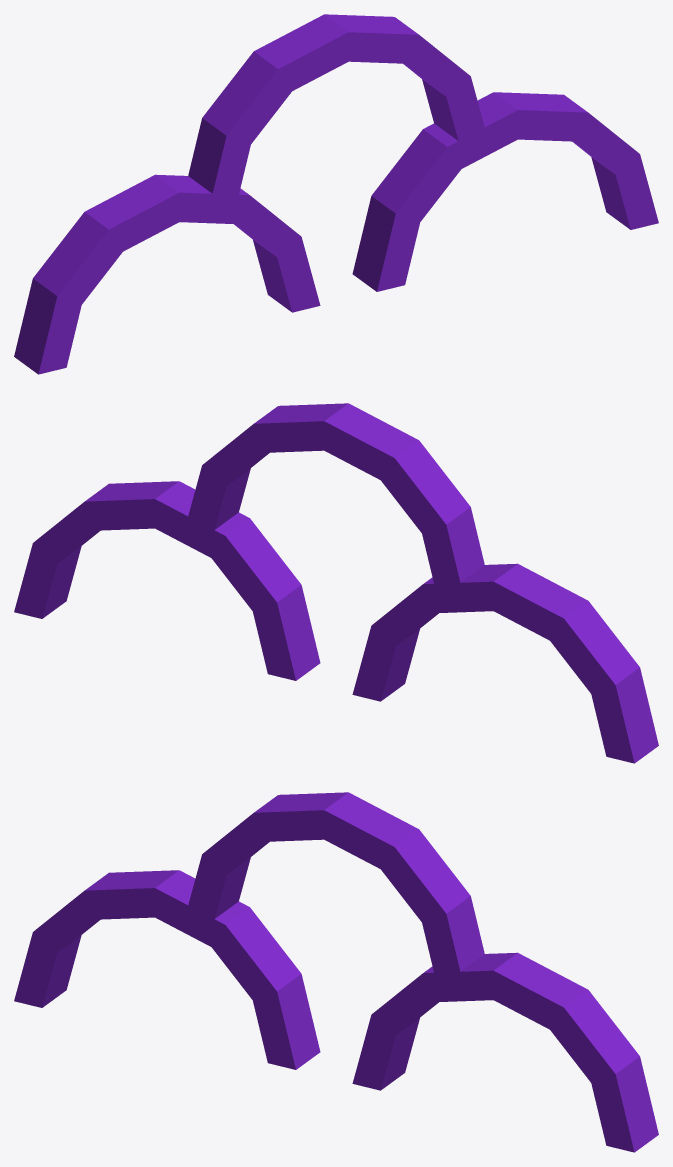
The model's file is bridge.obj.
3 renders of one model, top to bottom at view 1: azimuth 30°, elevation 25°; view 2: azimuth 150°, elevation 25°; view 3: azimuth 330°, elevation 25°, orthographic.
Visible parts, largest first — view 1: object_5, object_15, object_8, object_6, object_7, object_9, object_14, object_17, object_13, object_3, object_4, object_1 (+6 smaller); view 2: object_5, object_15, object_8, object_6, object_7, object_9, object_14, object_17, object_13, object_3, object_4, object_1 (+6 smaller); view 3: object_10, object_12, object_2, object_11, object_1, object_3, object_13, object_18, object_14, object_9, object_16, object_7 (+6 smaller).
Boxes of the visible parts, x1,y1,x2,y2 form: object_5: [371, 129, 461, 222]; object_15: [202, 51, 291, 144]; object_8: [33, 212, 122, 304]; object_6: [352, 196, 419, 291]; object_7: [14, 278, 81, 374]; object_9: [85, 175, 179, 251]; object_14: [254, 14, 348, 90]; object_17: [188, 118, 250, 194]; object_13: [325, 14, 418, 63]; object_3: [494, 92, 588, 141]; object_4: [423, 92, 517, 168]; object_1: [591, 154, 658, 229]; object_5: [211, 518, 301, 611]; object_15: [381, 440, 470, 533]; object_8: [550, 601, 639, 693]; object_6: [253, 585, 320, 680]; object_7: [591, 667, 658, 763]; object_9: [493, 564, 587, 640]; object_14: [324, 403, 418, 479]; object_17: [422, 507, 484, 583]; object_13: [254, 403, 347, 452]; object_3: [84, 481, 178, 530]; object_4: [155, 481, 249, 557]; object_1: [14, 543, 81, 618]; object_10: [211, 907, 301, 1000]; object_12: [381, 829, 470, 922]; object_2: [550, 990, 639, 1082]; object_11: [253, 974, 320, 1069]; object_1: [591, 1056, 658, 1152]; object_3: [493, 953, 587, 1029]; object_13: [324, 792, 418, 868]; object_18: [422, 896, 484, 972]; object_14: [254, 792, 347, 841]; object_9: [84, 870, 178, 919]; object_16: [155, 870, 249, 946]; object_7: [14, 932, 81, 1007].
Size of the model in its own units: 44 by 18.07 by 3.
